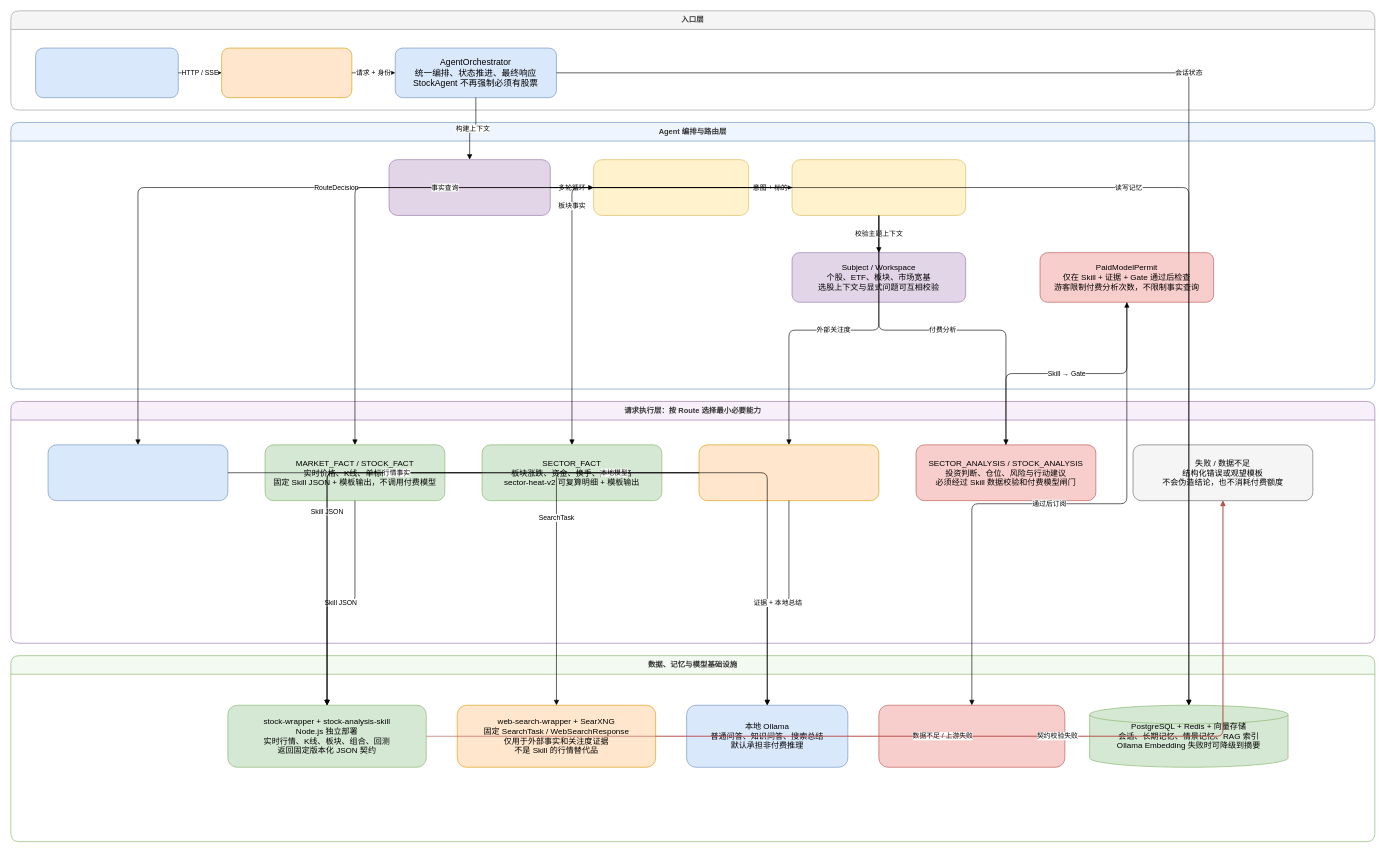
The diagram is 1386 pixels wide and 853 high, and some of its shapes have lost their labels. The shapes that lost their labels are listed below. From the top down, each one's centre as x and y in pixels, then its label:
At point 106,72: "用户 / 浏览器 选择模式：ChatAgent 或 StockAgent StockAgent 可选股票，也可直接问板块".
At point 286,72: "Chat API REST + SSE 流式响应 身份 / 会话入口".
At point 469,187: "上下文构建 LangChain4j ContextWindow 短期消息 + 压缩摘要 + 相关长期记忆".
At point 671,187: "有界 ReAct Loop 观察 → 判断 → 执行 → 校验 最多 N 轮，失败时停止并结构化返回".
At point 878,187: "RouteResolver + RequestRouter 规则优先；语义路由默认关闭 输出 RouteDecision + ExecutionPlan".
At point 137,472: "GENERAL_CHAT / KNOWLEDGE_QA 普通问答、知识问答 只用本地模型；知识问答可查本地 RAG".
At point 788,472: "SECTOR_ATTENTION 互联网讨论 / 关注度代理 SearXNG 搜索 + 确定性关注度指标 + 本地模型".
At point 971,736: "PaidAnalysisClient → DeepSeek 只接收已校验 Skill 结果、搜索证据、记忆上下文 产生最终投资分析结论".
